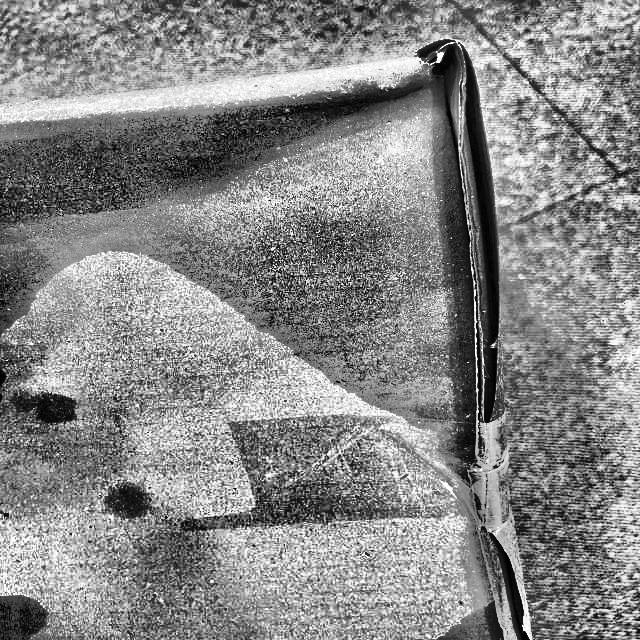box: (0, 36, 534, 639)
wet: (0, 42, 500, 431)
